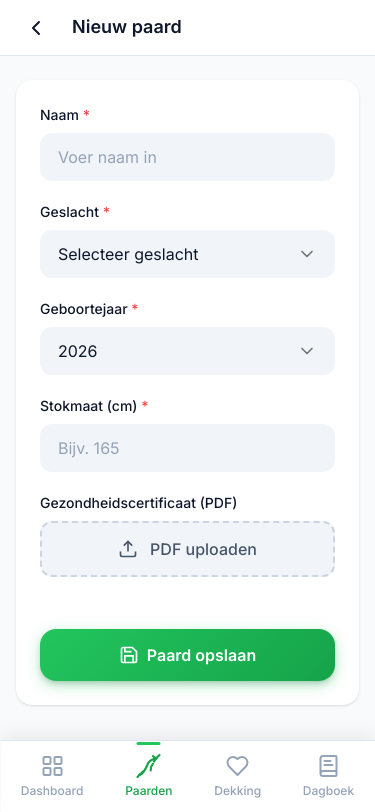
Add Horse Form › should show validation errors when submitting empty form
Click the submit button.
click(188, 655)  # box [40,629,335,681]
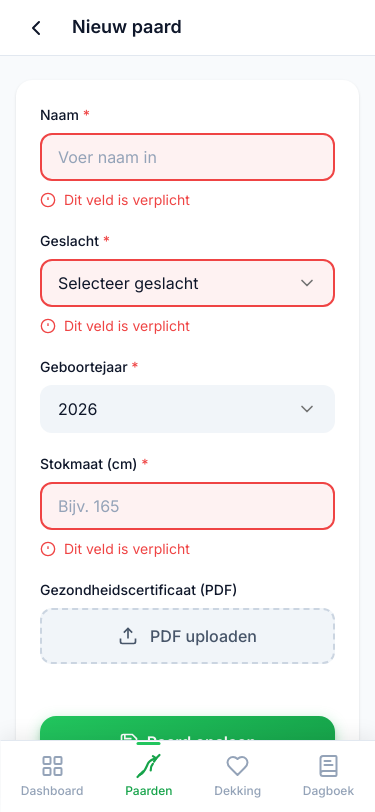
Expected: the text "Dit veld is verplicht" below "Naam" is shown, [64,191,190,208]
